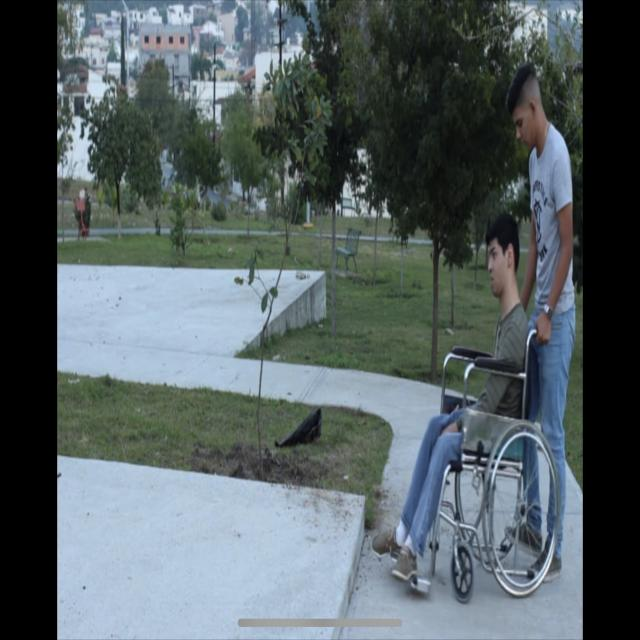wheelchairs: (390, 322, 559, 600)
